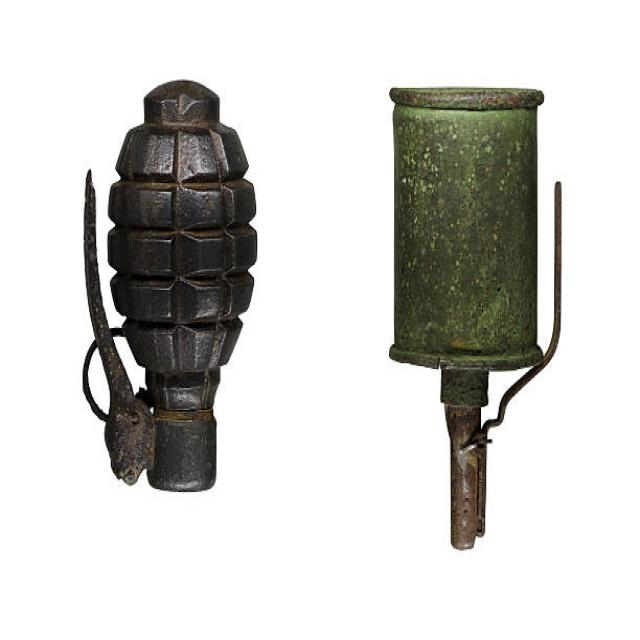grenade: (375, 67, 577, 556), (76, 69, 268, 504)
